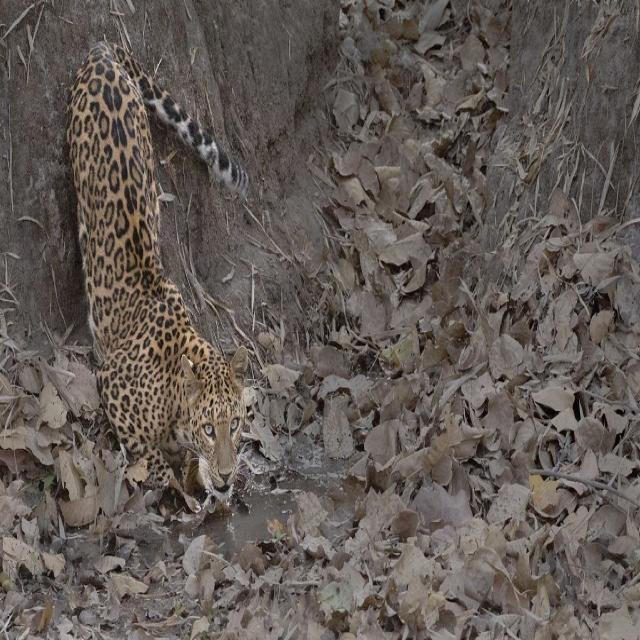Leopard: (68, 41, 250, 514)
